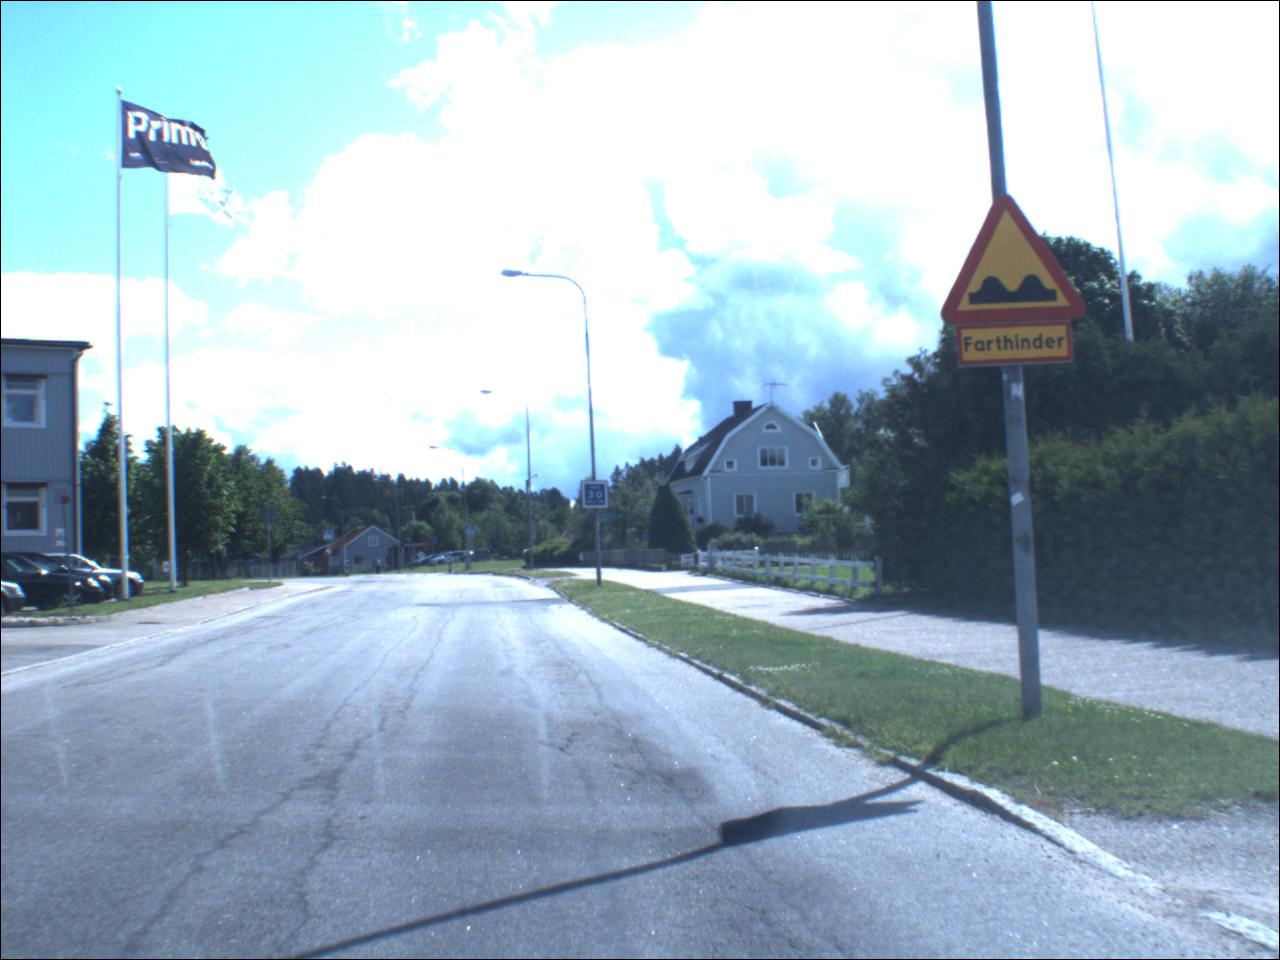WARNING_BAD_ROAD: (927, 181, 1094, 333)
